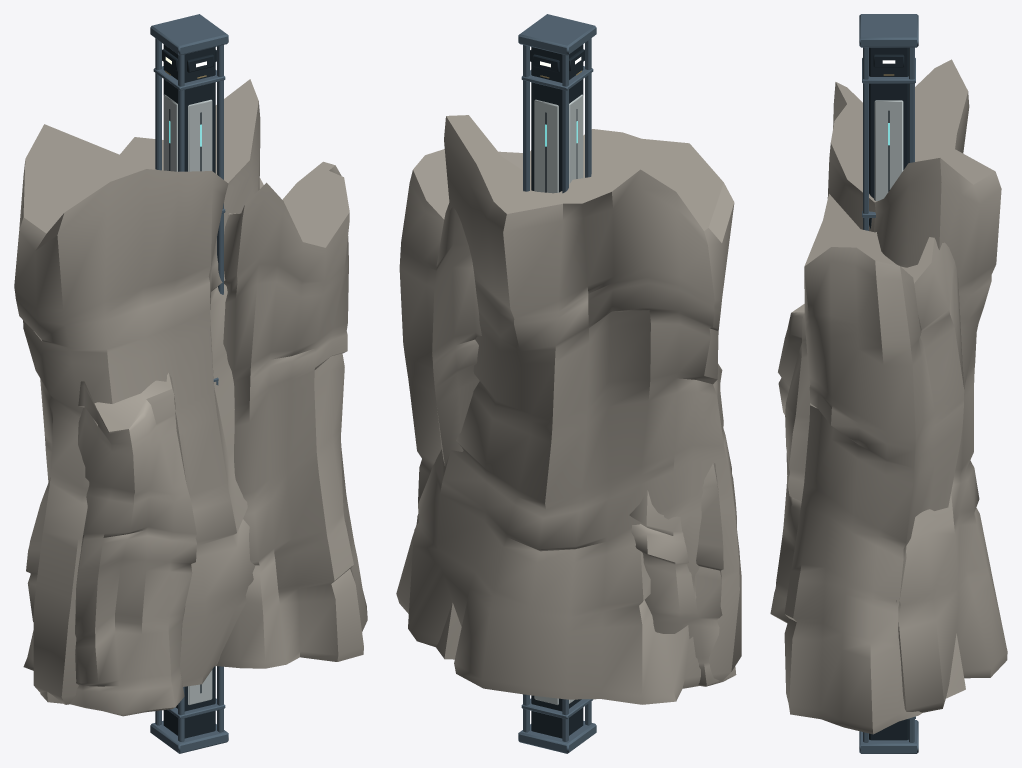
The model's file is kit-low-v1.glb.
3 views of the same model, side by side, from view 1: azimuth 30°, elevation 25°; view 2: azimuth 150°, elevation 25°; view 3: azimuth 270°, elevation 25° (orthographic).
Parts seen in each view (by area): view 1: canyon-cliff_rock, beacon-tower_alloy, beacon-tower_graphite, beacon-tower_ceramic; view 2: canyon-cliff_rock, beacon-tower_alloy, beacon-tower_graphite, beacon-tower_ceramic; view 3: canyon-cliff_rock, beacon-tower_alloy, beacon-tower_graphite, beacon-tower_ceramic.
Part boxes in pixels (<box>): canyon-cliff_rock: <box>14,79,367,716</box>; beacon-tower_alloy: <box>150,14,228,753</box>; beacon-tower_graphite: <box>162,44,216,738</box>; beacon-tower_ceramic: <box>163,94,212,704</box>; canyon-cliff_rock: <box>396,115,741,704</box>; beacon-tower_alloy: <box>518,14,596,753</box>; beacon-tower_graphite: <box>530,44,584,738</box>; beacon-tower_ceramic: <box>534,94,583,704</box>; canyon-cliff_rock: <box>770,59,1007,734</box>; beacon-tower_alloy: <box>859,14,918,753</box>; beacon-tower_graphite: <box>869,47,908,740</box>; beacon-tower_ceramic: <box>874,100,903,201</box>.
Bounding box in the file's own units: 20 × 40 × 12.
